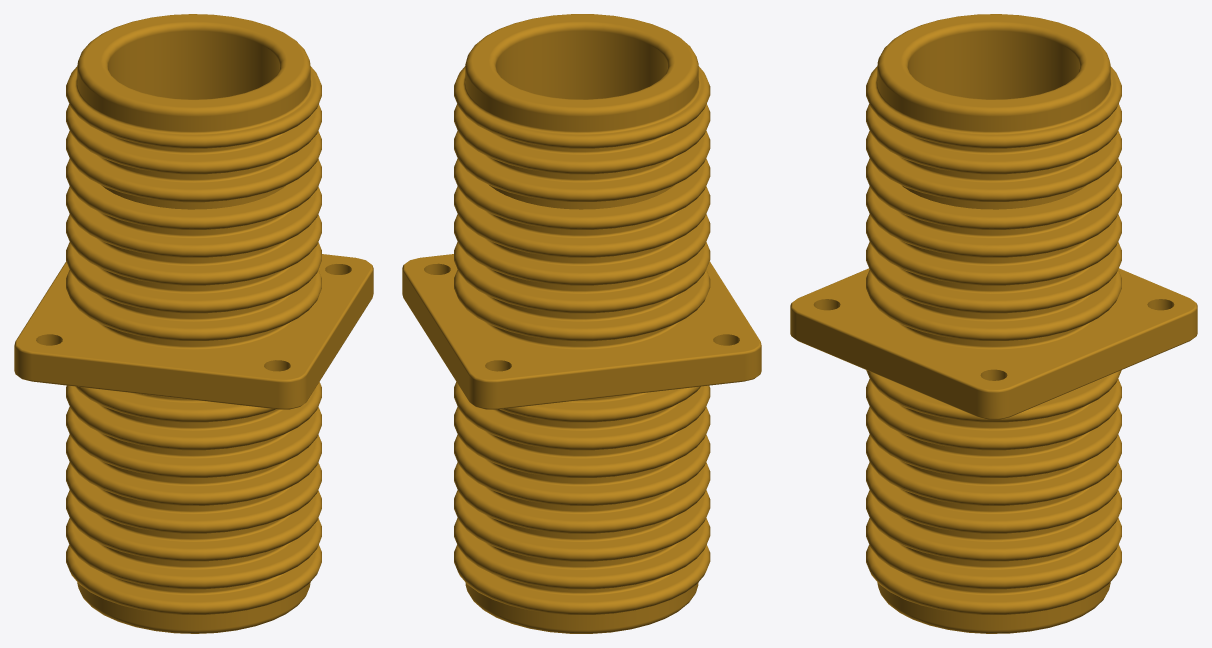
The model's file is 04.3_izolyator-prokhodnoy-ip-10-100x100x255.glb.
3 renders of one model, left to right at view 1: azimuth 30°, elevation 25°; view 2: azimuth 150°, elevation 25°; view 3: azimuth 270°, elevation 25°, orthographic.
Visible parts, largest first — view 1: 04.3_izolyator-prokhodnoy-ip-10-100x100x255; view 2: 04.3_izolyator-prokhodnoy-ip-10-100x100x255; view 3: 04.3_izolyator-prokhodnoy-ip-10-100x100x255.
Part boxes in pixels (left/top/right/bottom): 04.3_izolyator-prokhodnoy-ip-10-100x100x255: left=14, top=14, right=373, bottom=633; 04.3_izolyator-prokhodnoy-ip-10-100x100x255: left=402, top=14, right=761, bottom=633; 04.3_izolyator-prokhodnoy-ip-10-100x100x255: left=790, top=14, right=1197, bottom=633.
Bounding box in the file's own units: 0.1725 × 0.246 × 0.1725.
